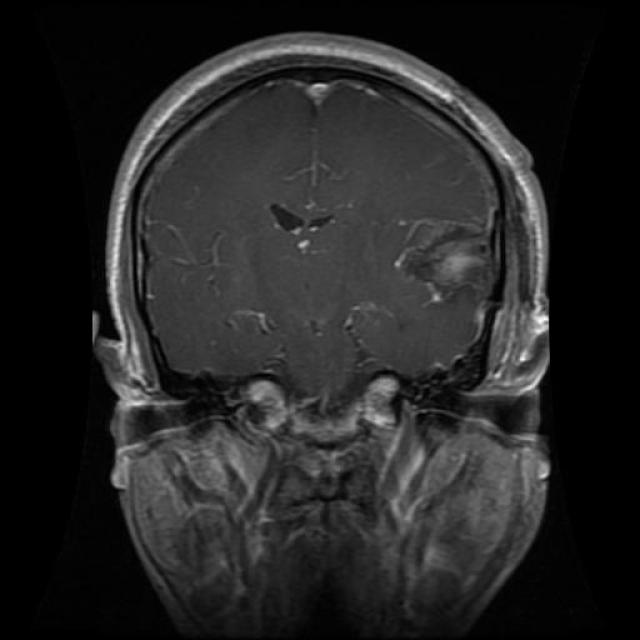glioma: (389, 212, 500, 312)
